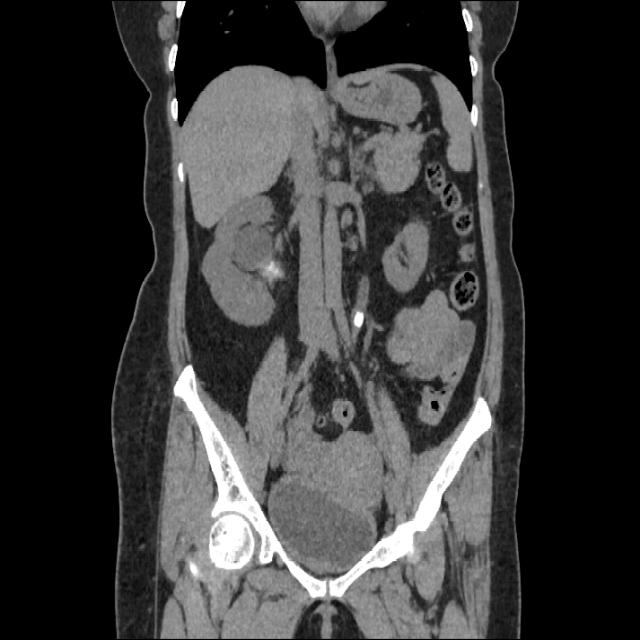kidney: (204, 200, 290, 326)
stone: (354, 312, 366, 329)
